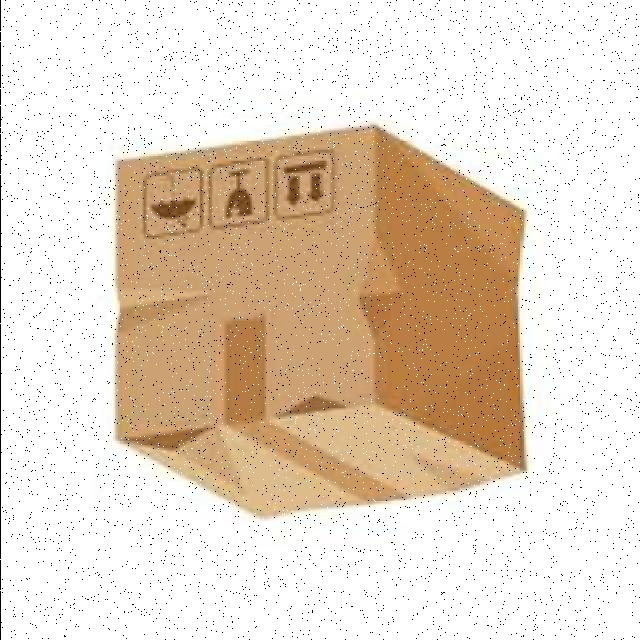defect: (106, 119, 531, 523)
